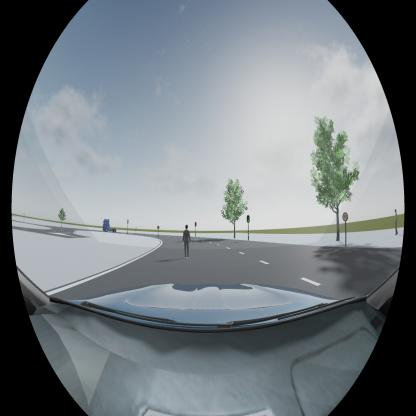Green Light: (246, 215, 250, 223)
Red Light: (194, 221, 196, 226)
Speed Limit 70: (157, 226, 160, 229)
Speed Limit 90: (343, 212, 348, 221)
